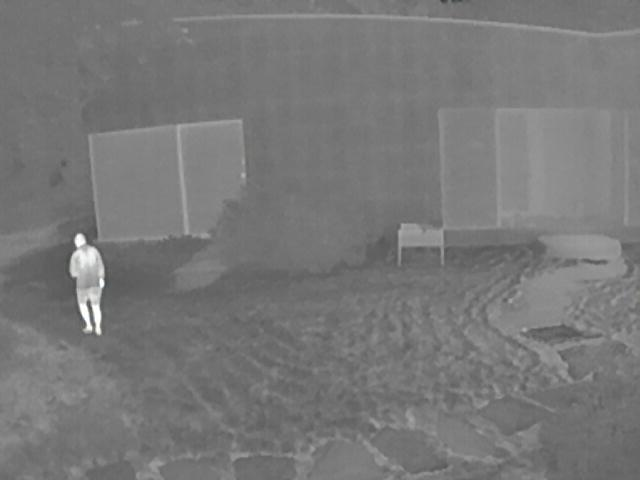person: (69, 231, 106, 335)
